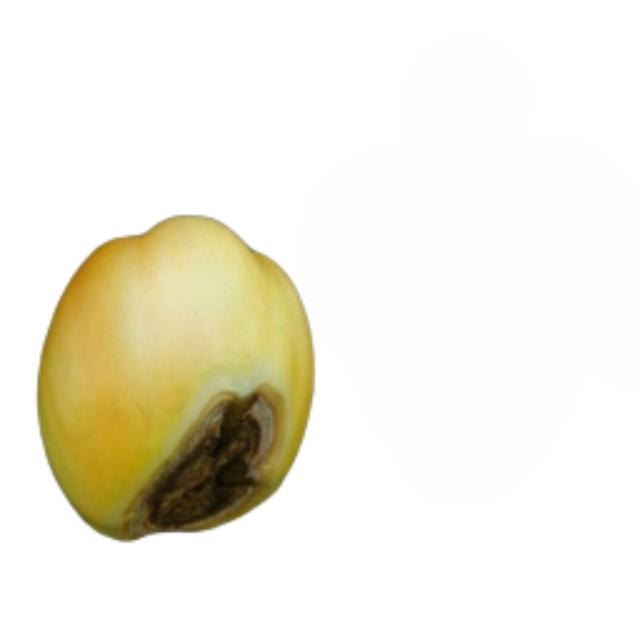defect: (21, 210, 320, 547)
